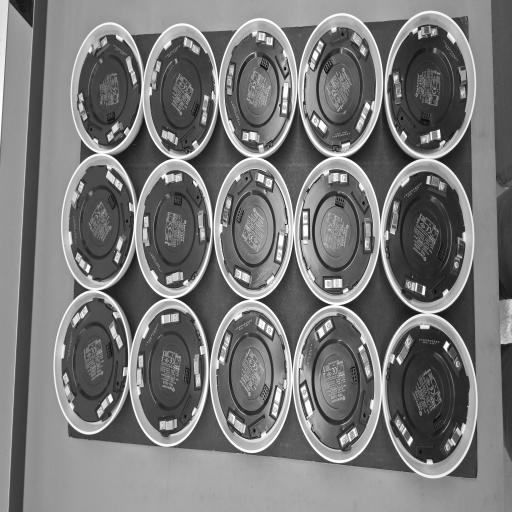konnektor: (259, 384, 270, 404), (433, 414, 445, 432), (322, 58, 334, 75), (437, 242, 447, 262), (106, 192, 116, 212), (419, 109, 432, 124), (350, 364, 358, 388), (235, 205, 245, 224), (258, 57, 271, 71), (190, 98, 199, 118), (334, 196, 346, 210), (105, 340, 113, 360), (172, 195, 183, 208), (183, 366, 190, 386), (106, 109, 115, 123)
yayli: (394, 414, 414, 453), (442, 336, 463, 373), (394, 333, 414, 368), (300, 382, 316, 424), (358, 339, 374, 381), (444, 421, 463, 456), (226, 409, 248, 438), (61, 371, 77, 408), (348, 30, 369, 58), (419, 127, 444, 150), (452, 234, 466, 275), (313, 318, 335, 344), (338, 423, 360, 449), (69, 304, 89, 332), (271, 380, 285, 420), (423, 172, 448, 194), (108, 316, 124, 350), (308, 39, 324, 73), (356, 100, 372, 134), (218, 330, 232, 368), (311, 114, 330, 142), (253, 316, 275, 340), (404, 277, 428, 299), (105, 166, 124, 193), (123, 53, 138, 87), (415, 24, 440, 44), (74, 250, 93, 276), (388, 199, 401, 237), (113, 232, 128, 264), (97, 391, 114, 419), (252, 170, 274, 191), (300, 207, 311, 249), (90, 35, 109, 59), (392, 70, 404, 108), (192, 351, 203, 391), (70, 180, 84, 211), (221, 196, 233, 232), (107, 119, 124, 144), (181, 35, 201, 56), (150, 59, 162, 94), (200, 92, 212, 127), (165, 266, 186, 286), (233, 266, 254, 286), (275, 225, 286, 263), (136, 351, 146, 392), (457, 61, 467, 102), (196, 203, 206, 243), (325, 169, 350, 185), (158, 310, 180, 328), (363, 212, 372, 255), (161, 128, 180, 148), (281, 78, 291, 116), (253, 29, 274, 47), (158, 417, 180, 434), (142, 214, 152, 250), (241, 129, 262, 146), (163, 172, 184, 189), (322, 276, 344, 292), (225, 63, 235, 98), (78, 91, 88, 123)
